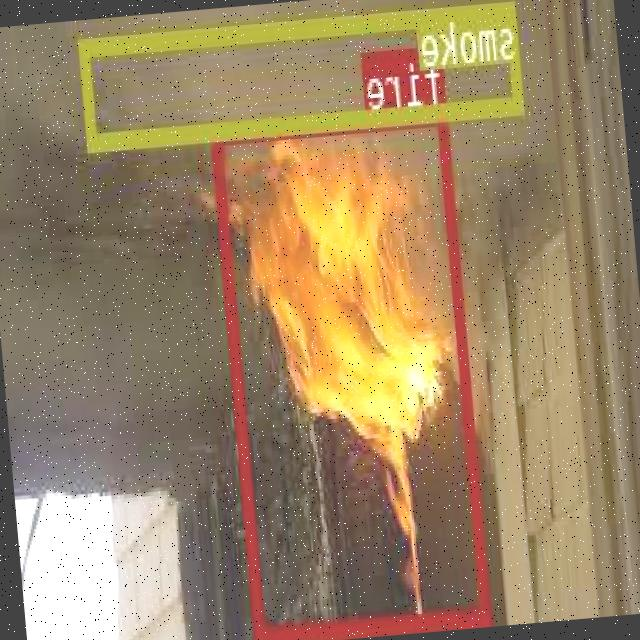fire: (213, 106, 492, 640)
smoke: (79, 0, 525, 147)
